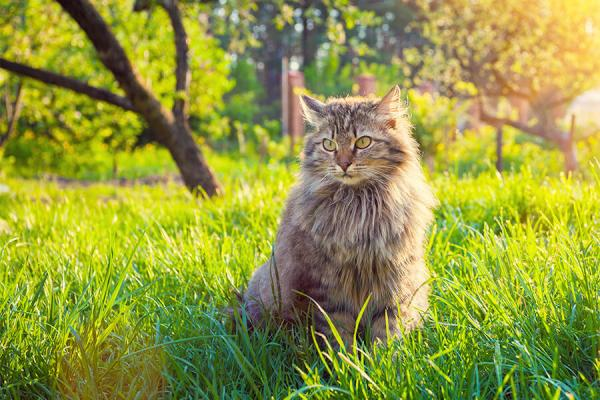cat: (248, 68, 441, 351)
